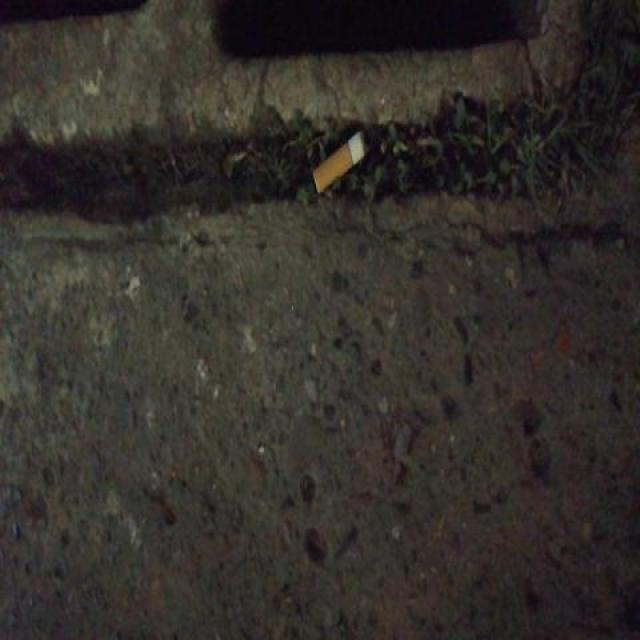non-organic waste: (308, 126, 368, 201)
